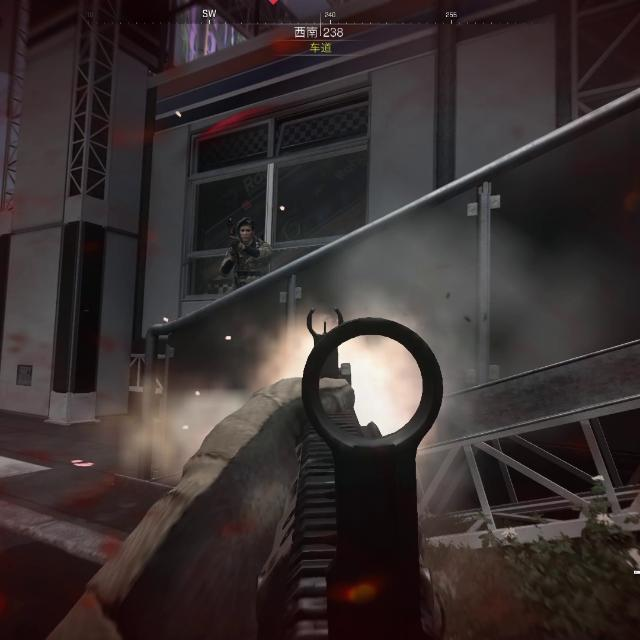MW2_body: (220, 217, 272, 287)
